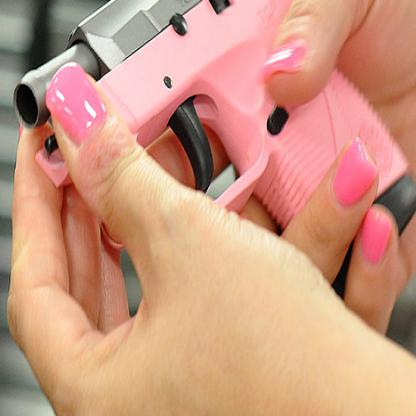gun: (5, 0, 415, 289)
